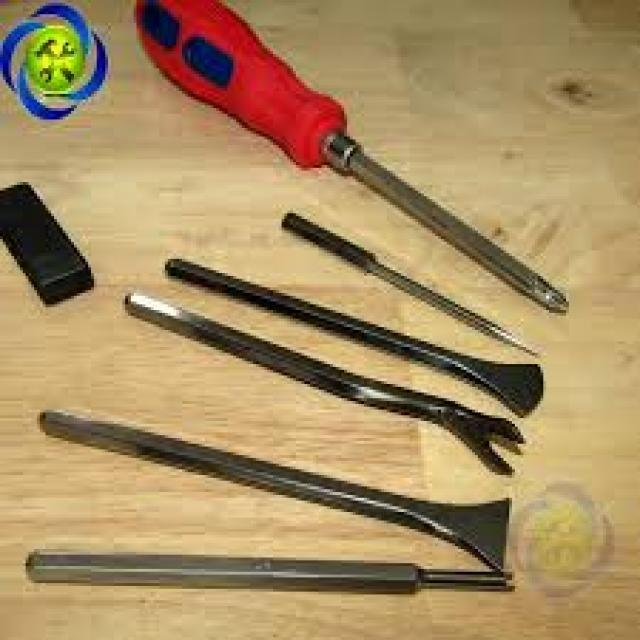screwdriver: (131, 0, 584, 313)
